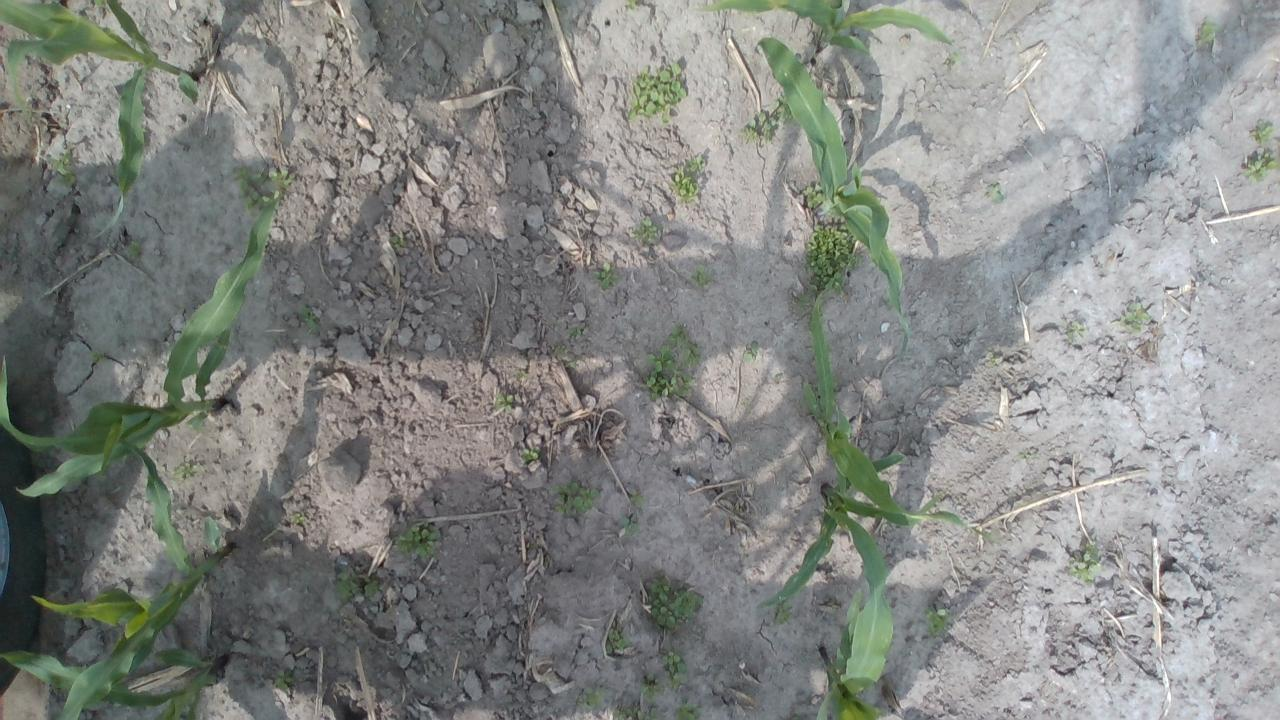Maize: (0, 194, 283, 496), (756, 454, 992, 700), (31, 444, 231, 718), (756, 34, 910, 353), (0, 0, 200, 237), (799, 288, 942, 529), (0, 646, 228, 720), (696, 0, 954, 57), (816, 588, 882, 720)
Weeds: (806, 222, 864, 294), (626, 63, 688, 123), (644, 572, 704, 630), (638, 347, 696, 400), (233, 163, 296, 210), (392, 520, 442, 560), (554, 478, 600, 514), (666, 321, 702, 367), (670, 155, 704, 203), (1069, 541, 1099, 583), (740, 110, 778, 142), (1245, 152, 1280, 184), (48, 150, 78, 186), (336, 562, 360, 606), (662, 650, 688, 690), (1118, 302, 1150, 334), (924, 606, 954, 638), (589, 262, 622, 290), (576, 686, 608, 712), (604, 627, 632, 655), (612, 704, 656, 720), (297, 302, 320, 331), (274, 670, 305, 691), (640, 671, 664, 697), (1198, 14, 1218, 44), (1250, 119, 1274, 144), (674, 696, 699, 720), (632, 218, 658, 240), (773, 94, 794, 121), (802, 184, 824, 207), (690, 264, 711, 288), (773, 602, 792, 625), (174, 463, 198, 481), (495, 392, 515, 412), (623, 517, 642, 538), (1068, 321, 1089, 340), (362, 576, 380, 597), (988, 182, 1004, 204), (742, 340, 759, 360), (520, 446, 538, 464), (944, 49, 960, 66), (797, 293, 810, 313), (126, 241, 141, 257), (390, 231, 404, 248), (88, 350, 105, 364), (568, 324, 584, 336), (290, 512, 304, 525), (630, 494, 644, 506), (1018, 450, 1036, 459), (624, 0, 638, 9), (94, 0, 108, 8), (990, 354, 999, 366), (556, 344, 566, 354), (567, 361, 576, 369)
